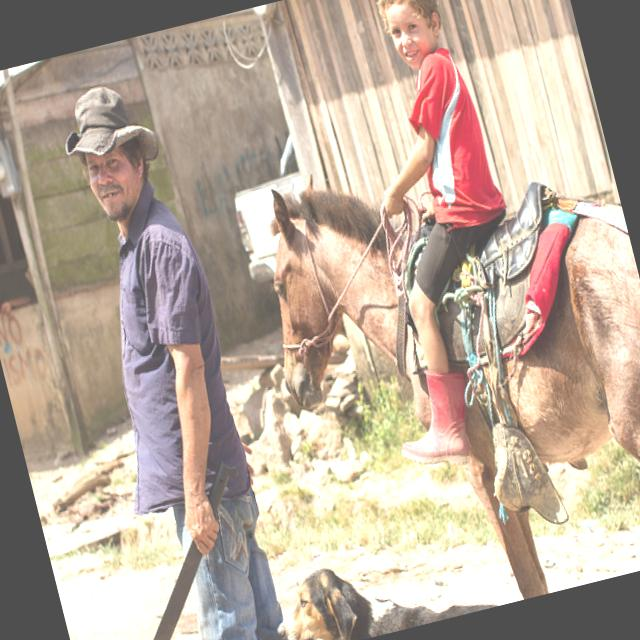Vehicle: (220, 132, 328, 286), (218, 132, 324, 286)
